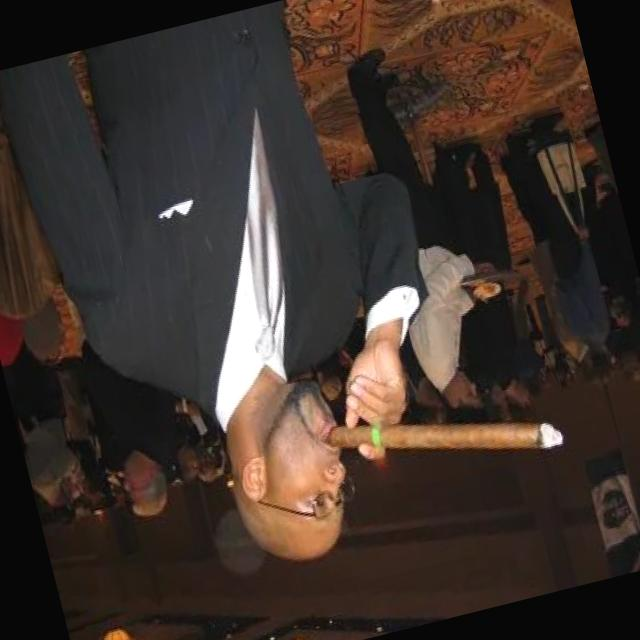cigarette: (315, 362, 577, 516)
